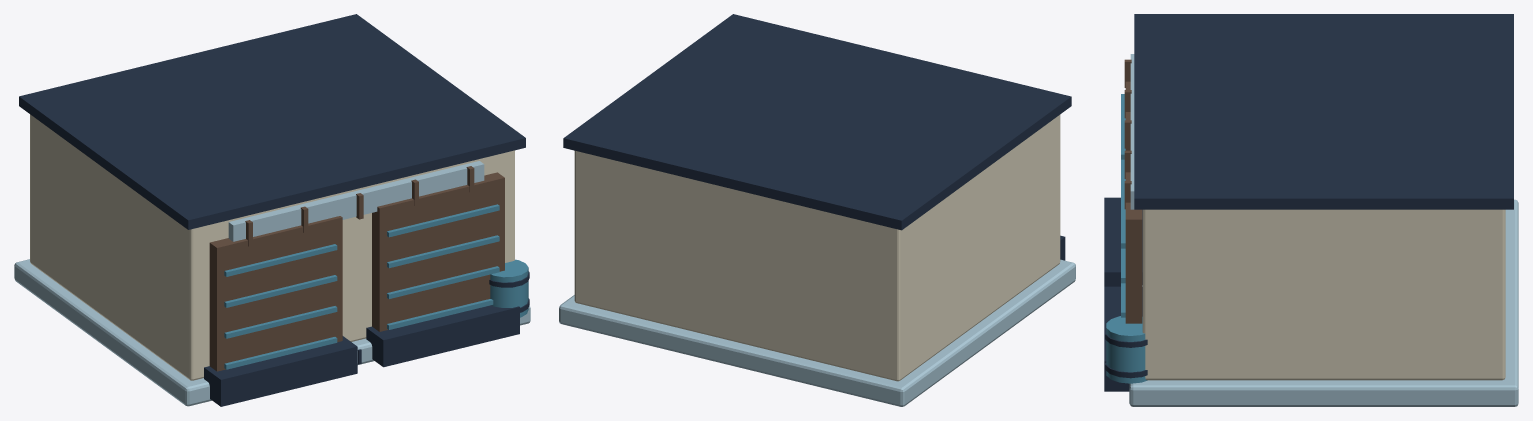
File: base_warehouse_banks.glb
3 views of the same model, side by side, from view 1: azimuth 30°, elevation 25°; view 2: azimuth 150°, elevation 25°; view 3: azimuth 270°, elevation 25° (orthographic). The views are drawn at different scales.
Visible parts, largest first — view 1: base_warehouse_banks ink, base_warehouse_banks plaster, base_warehouse_banks wood, base_warehouse_banks river, base_warehouse_banks mist, base_warehouse_banks glass; view 2: base_warehouse_banks plaster, base_warehouse_banks ink, base_warehouse_banks mist; view 3: base_warehouse_banks ink, base_warehouse_banks plaster, base_warehouse_banks mist, base_warehouse_banks wood, base_warehouse_banks river, base_warehouse_banks glass.
Part boxes in pixels (box(x1,y1,x2,y2)): base_warehouse_banks ink: box(19, 14, 529, 406); base_warehouse_banks plaster: box(30, 114, 514, 380); base_warehouse_banks wood: box(209, 166, 504, 371); base_warehouse_banks river: box(224, 204, 528, 369); base_warehouse_banks mist: box(14, 259, 530, 406); base_warehouse_banks glass: box(228, 161, 484, 241); base_warehouse_banks plaster: box(574, 115, 1060, 381); base_warehouse_banks ink: box(563, 14, 1071, 260); base_warehouse_banks mist: box(559, 259, 1075, 406); base_warehouse_banks ink: box(1104, 14, 1513, 391); base_warehouse_banks plaster: box(1142, 209, 1505, 380); base_warehouse_banks mist: box(1129, 199, 1518, 406); base_warehouse_banks wood: box(1124, 59, 1142, 323); base_warehouse_banks river: box(1106, 94, 1147, 383); base_warehouse_banks glass: box(1130, 54, 1134, 209).
Bounding box in the file's own units: 0.935 × 0.48 × 0.8675.
